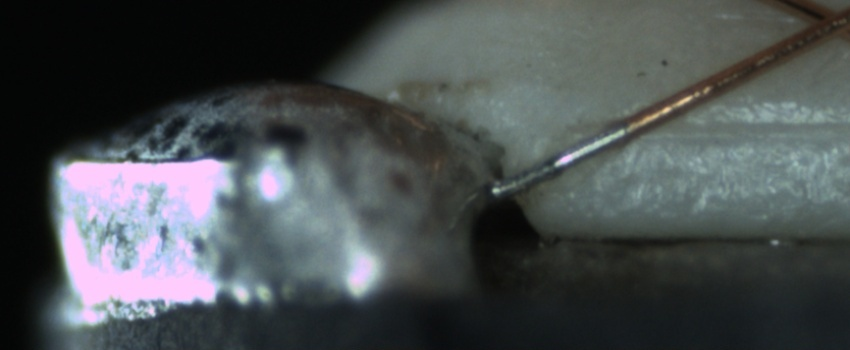CL: (789, 0, 850, 46)
DL: (636, 105, 850, 166)
TS: (487, 121, 630, 200)
